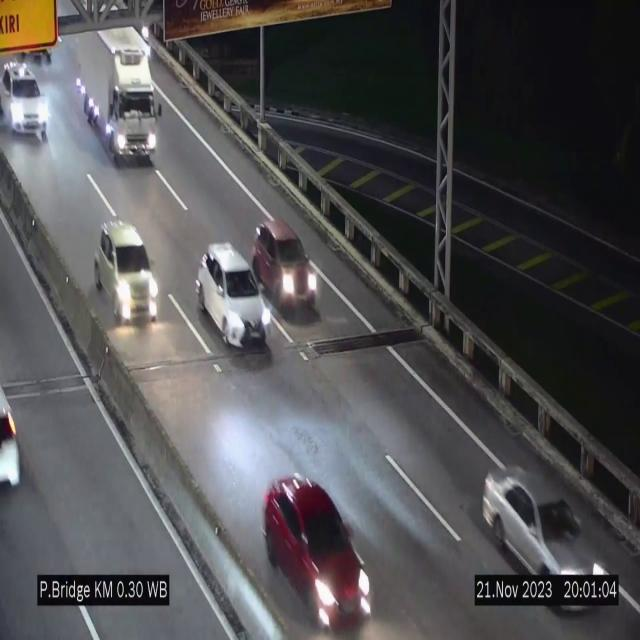Car: (470, 448, 608, 623), (264, 476, 372, 627), (196, 243, 274, 348), (255, 217, 323, 322), (94, 218, 158, 320), (1, 62, 46, 136)
Truck: (80, 28, 160, 163)
